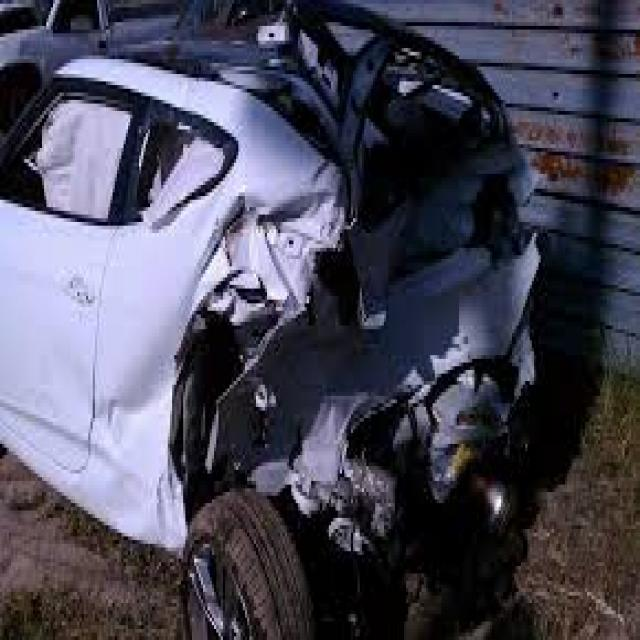minor: (164, 18, 537, 601)
